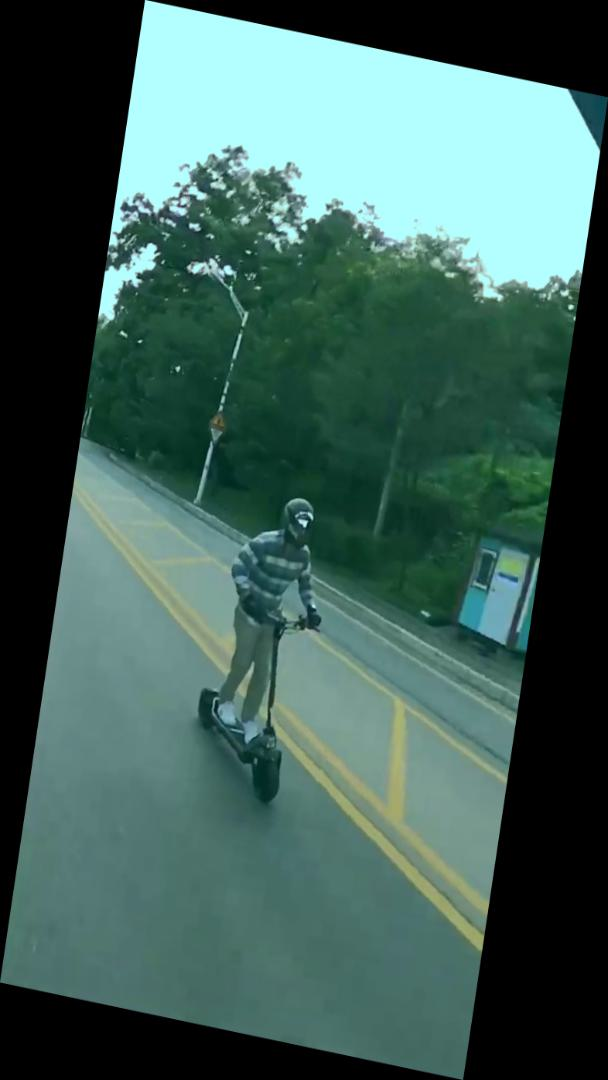helmet: (183, 476, 342, 812)
